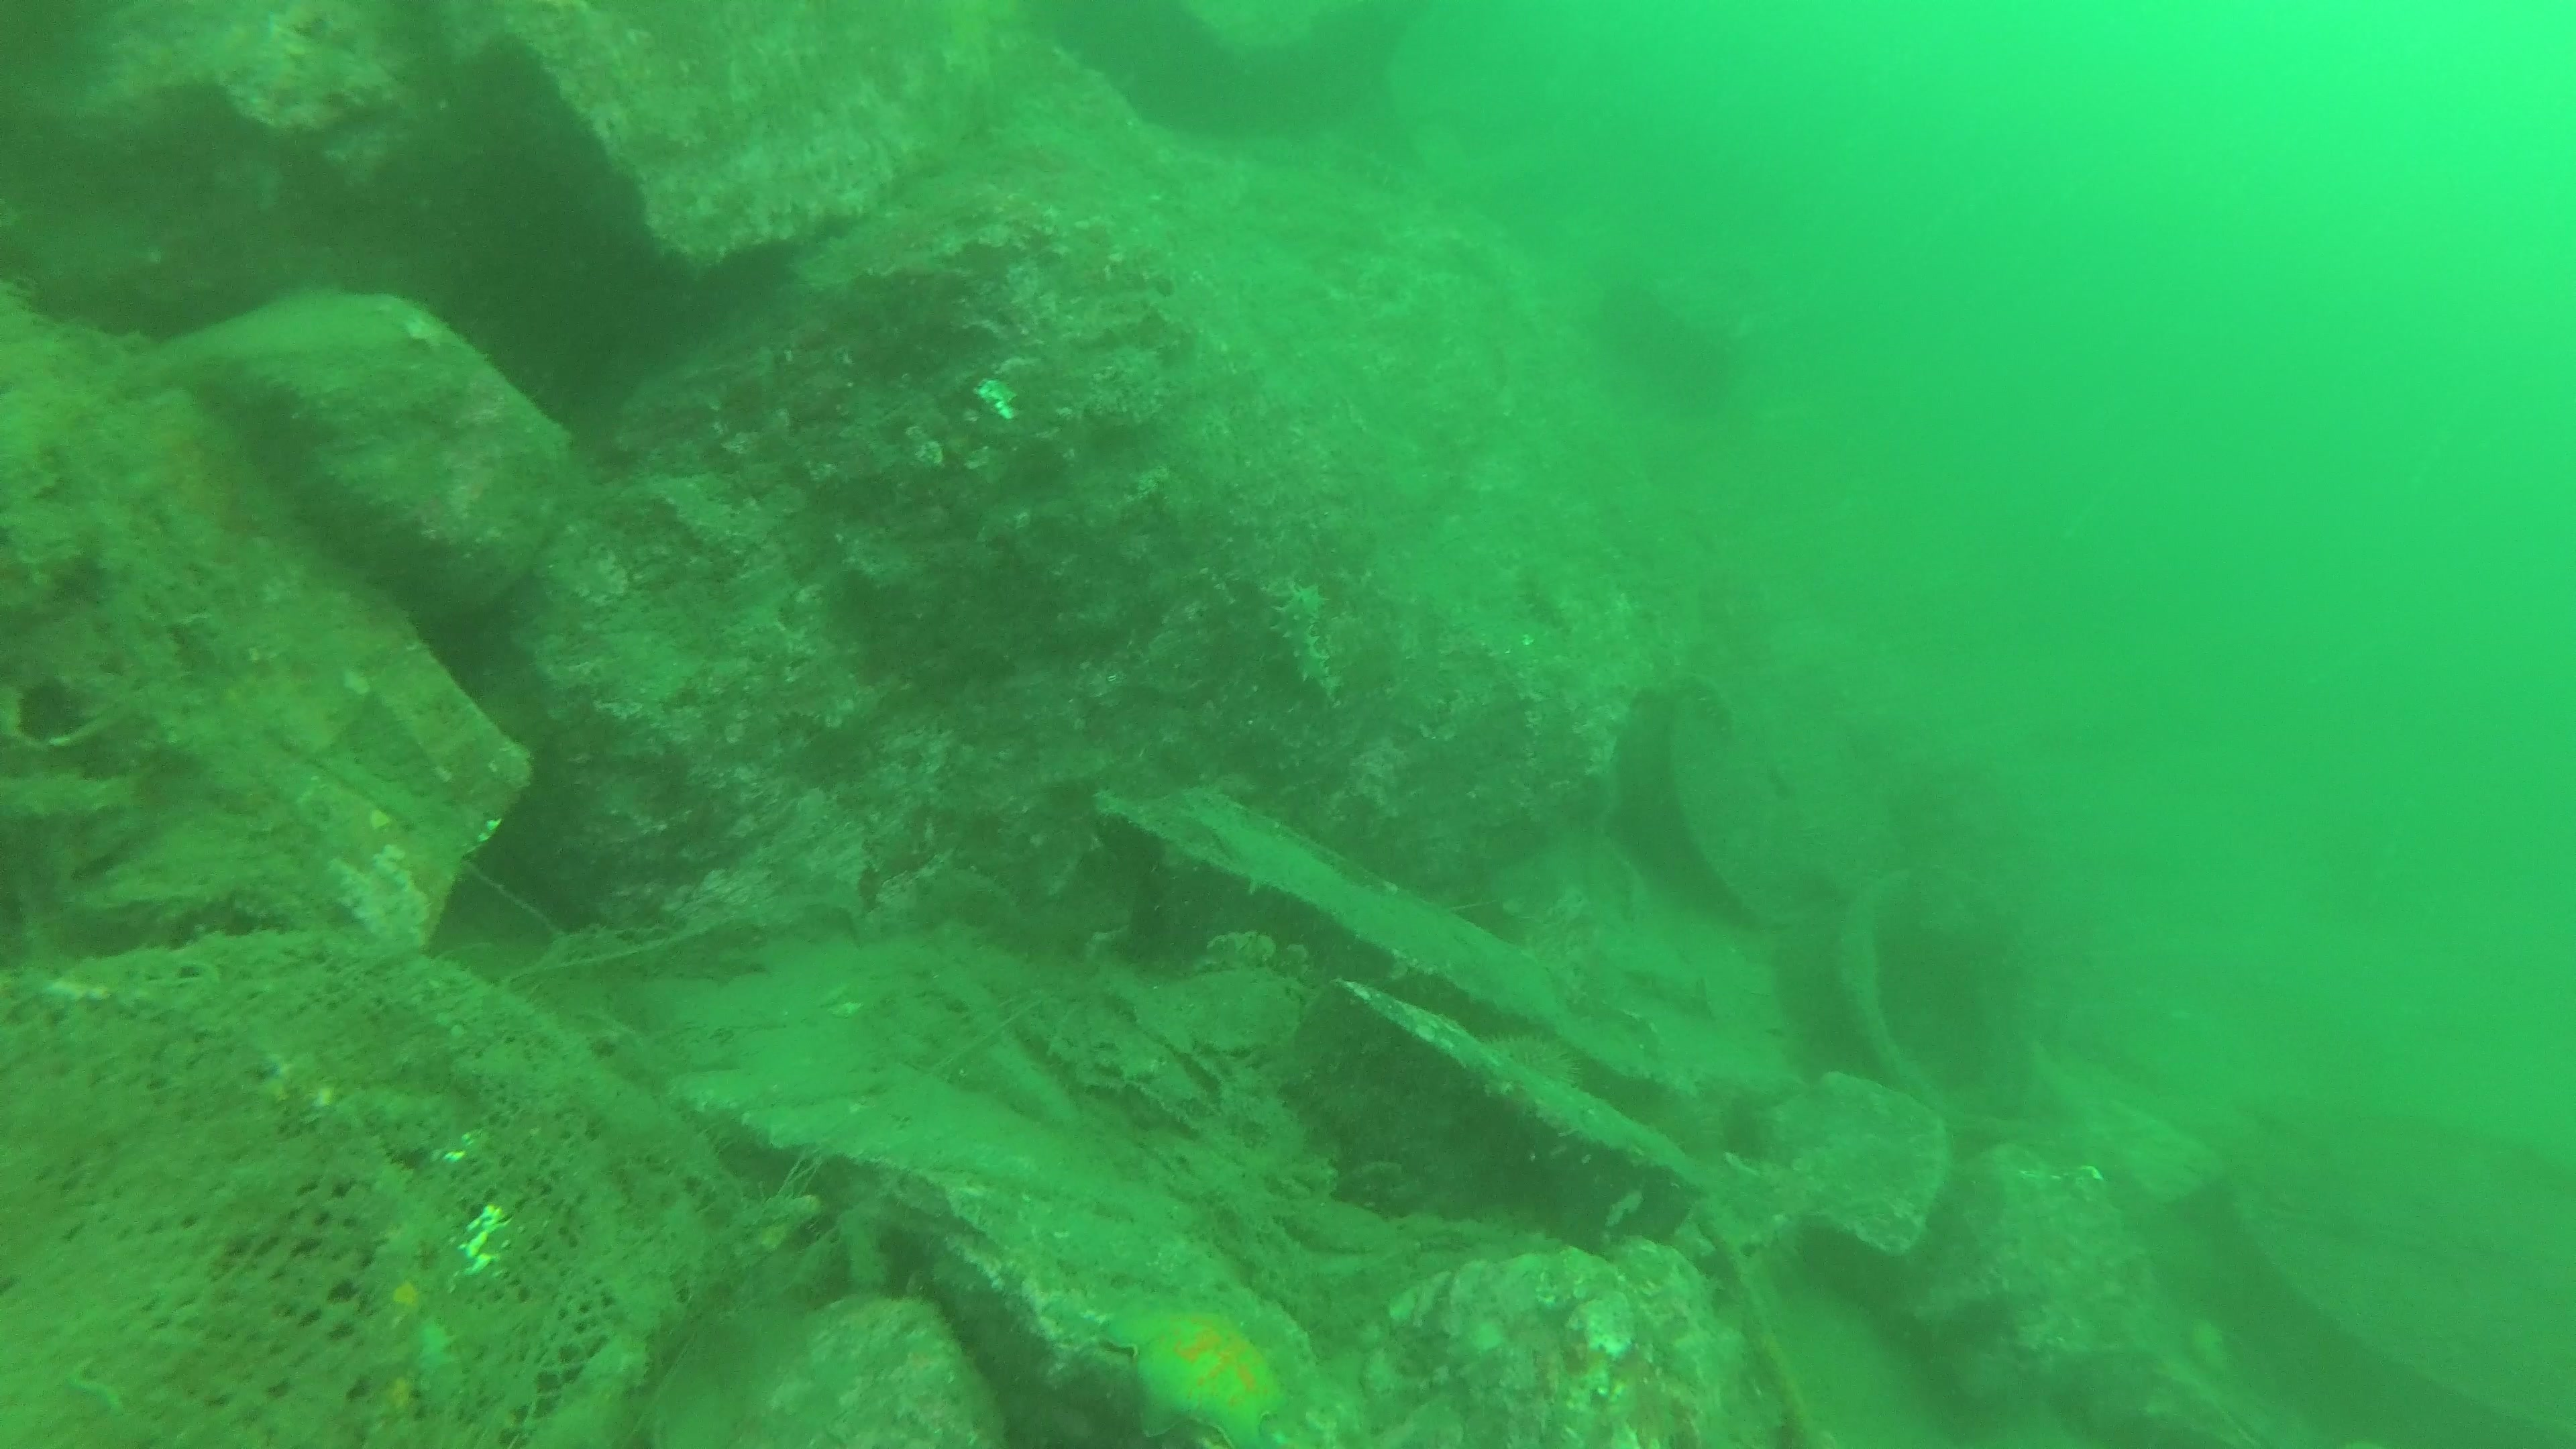echinus: (1474, 1037, 1582, 1104)
holothurian: (1269, 584, 1338, 708), (1513, 557, 1575, 639), (1316, 150, 1410, 196), (1677, 671, 1737, 741), (1247, 138, 1325, 175)
starfish: (1100, 1309, 1284, 1449)
